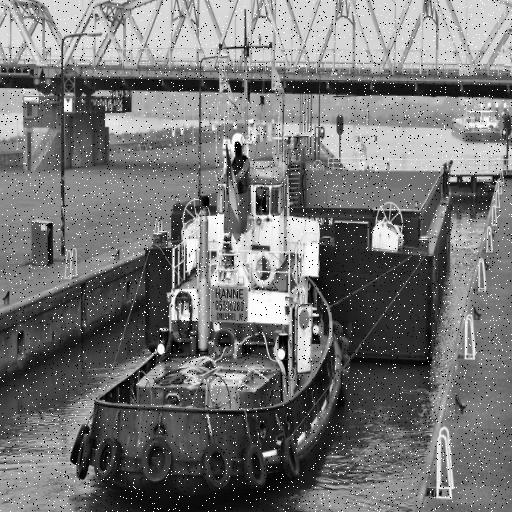tugboat: (69, 41, 354, 512)
